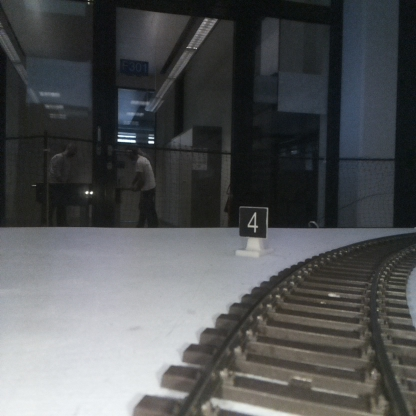black-stop-4: (239, 206, 267, 254)
